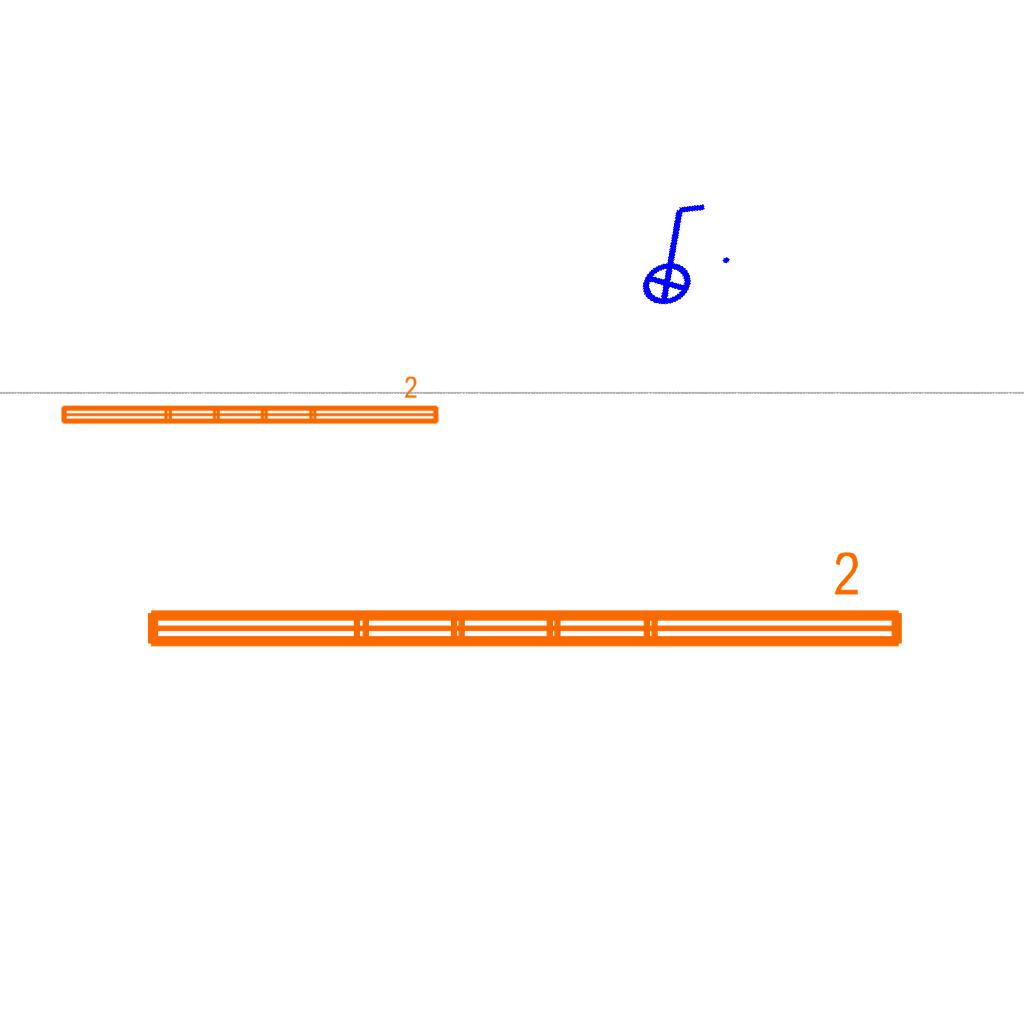Ambulanz_Pendelleuchte_LED: (137, 547, 911, 659), (56, 374, 443, 430)
Ausschalter_beleuchtet: (603, 187, 743, 319)
